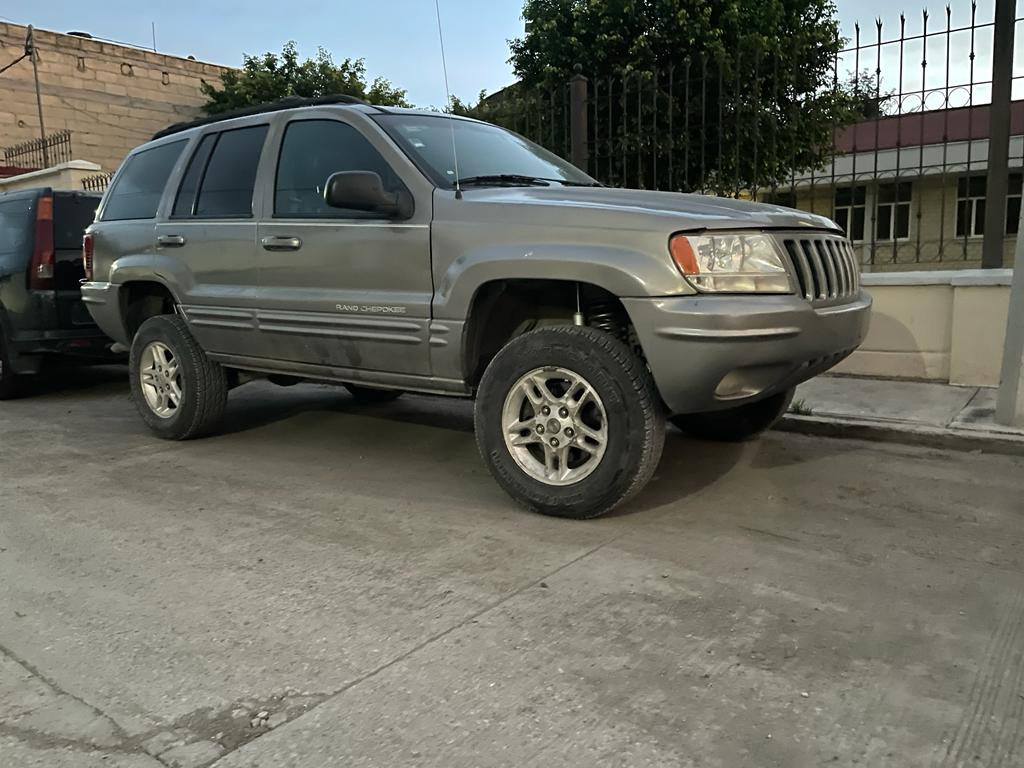Auto: (81, 96, 876, 519), (1, 187, 140, 386)
